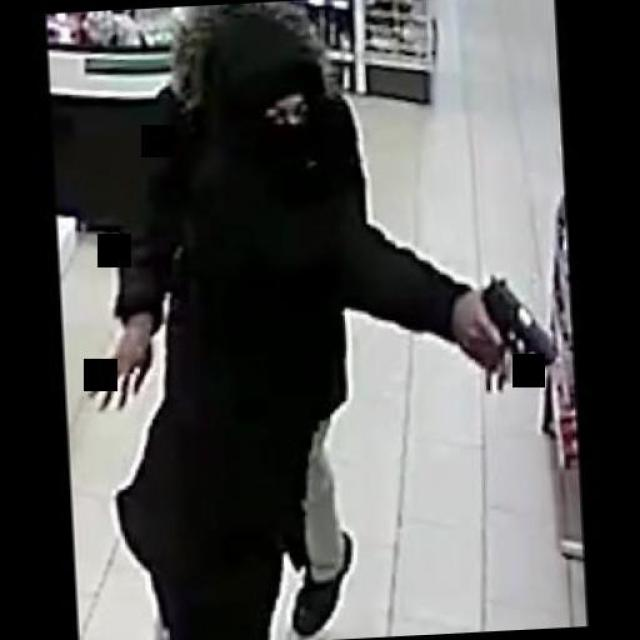gun: (460, 271, 558, 375)
